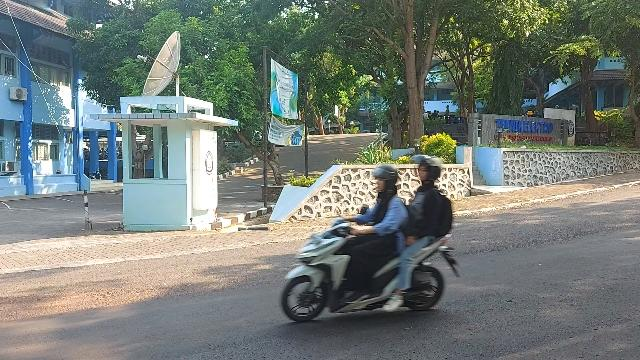helm: (412, 156, 443, 183), (374, 166, 399, 192)
motor: (282, 207, 463, 324)
